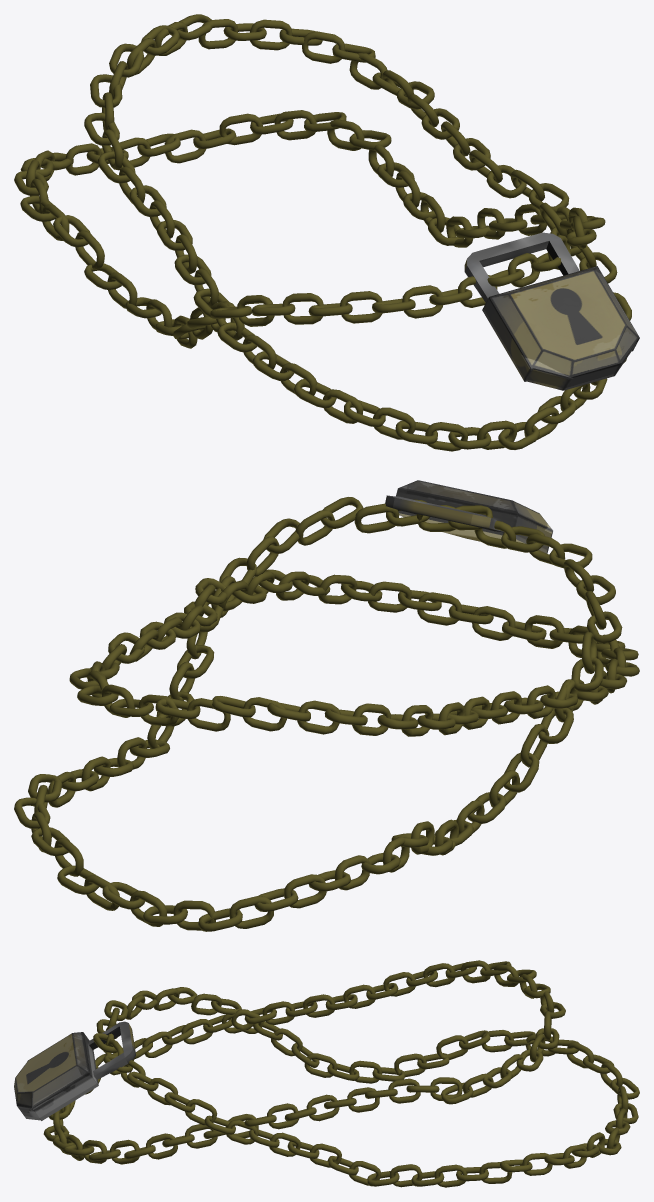
The model's file is SM_Zincir.fbx.
3 renders of one model, top to bottom at view 1: azimuth 30°, elevation 25°; view 2: azimuth 150°, elevation 25°; view 3: azimuth 270°, elevation 25°, orthographic. The views are drawn at different scales.
Visible parts, largest first — view 1: SM_Zincir, SM_Klit; view 2: SM_Zincir, SM_Klit; view 3: SM_Zincir, SM_Klit.
Part boxes in pixels (x1,y1,x2,y2): SM_Zincir: (14, 14, 631, 451); SM_Klit: (464, 232, 639, 390); SM_Zincir: (14, 497, 639, 931); SM_Klit: (385, 480, 552, 553); SM_Zincir: (43, 960, 639, 1187); SM_Klit: (14, 1021, 135, 1120).
Bounding box in the file's own units: 239 × 117 × 460.
Materials: 2 (1 with a texture image).
